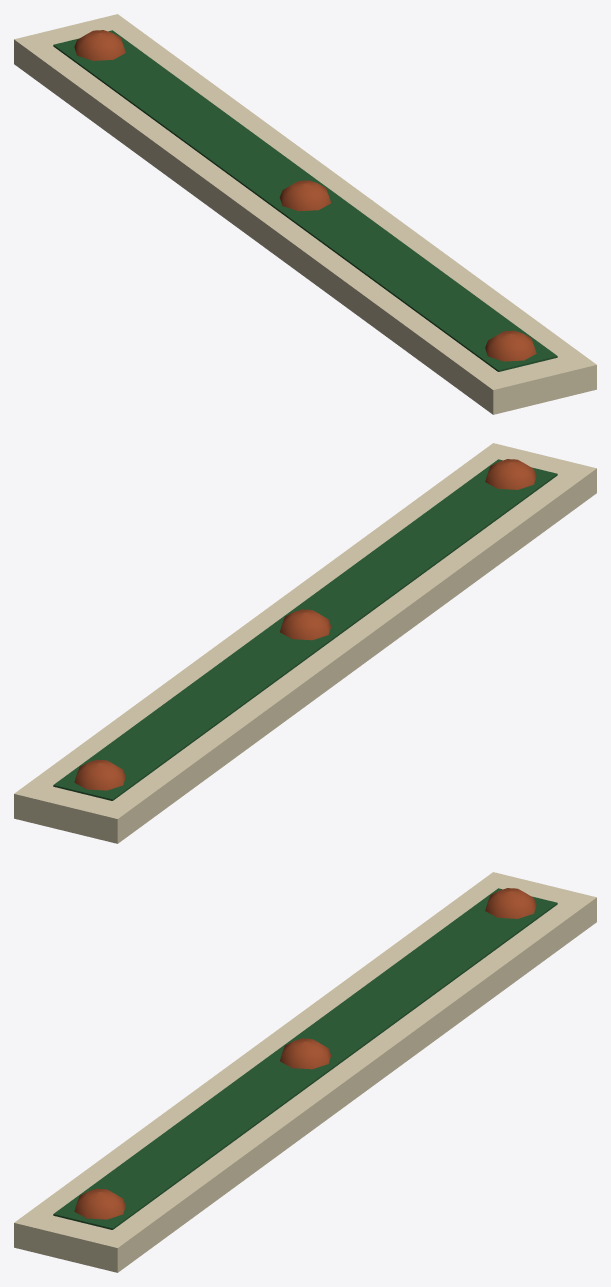
The model's file is pod100_monitor.obj.
The picture shows the model from 3 angles, top to bottom: view 1: azimuth 30°, elevation 25°; view 2: azimuth 150°, elevation 25°; view 3: azimuth 330°, elevation 25°; orthographic projection.
Visible parts, largest first — view 1: pod100_monitor; view 2: pod100_monitor; view 3: pod100_monitor.
Boxes of the visible parts, left/top/right/bottom form: pod100_monitor: left=14, top=14, right=596, bottom=414; pod100_monitor: left=14, top=443, right=596, bottom=843; pod100_monitor: left=14, top=872, right=596, bottom=1272.
Bounding box in the file's own units: 0.7 × 0.28 × 5.6.
